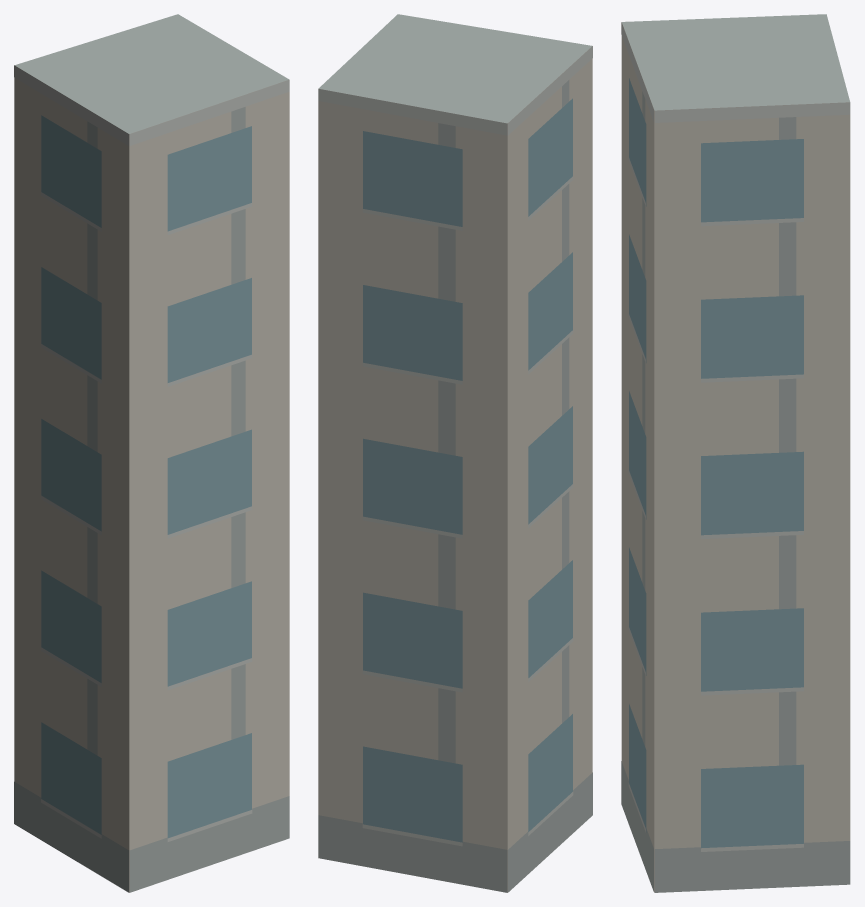
The model's file is survey-upis-32643499.glb.
3 views of the same model, side by side, from view 1: azimuth 30°, elevation 25°; view 2: azimuth 150°, elevation 25°; view 3: azimuth 270°, elevation 25° (orthographic). The views are drawn at different scales.
Visible parts, largest first — view 1: survey-upis-32643499.tmp; view 2: survey-upis-32643499.tmp; view 3: survey-upis-32643499.tmp.
Part boxes in pixels (left/top/right/bottom): survey-upis-32643499.tmp: left=14, top=14, right=289, bottom=892; survey-upis-32643499.tmp: left=318, top=14, right=592, bottom=892; survey-upis-32643499.tmp: left=621, top=14, right=850, bottom=892.
Size of the model in its own units: 4.05 by 15.25 by 4.05.
